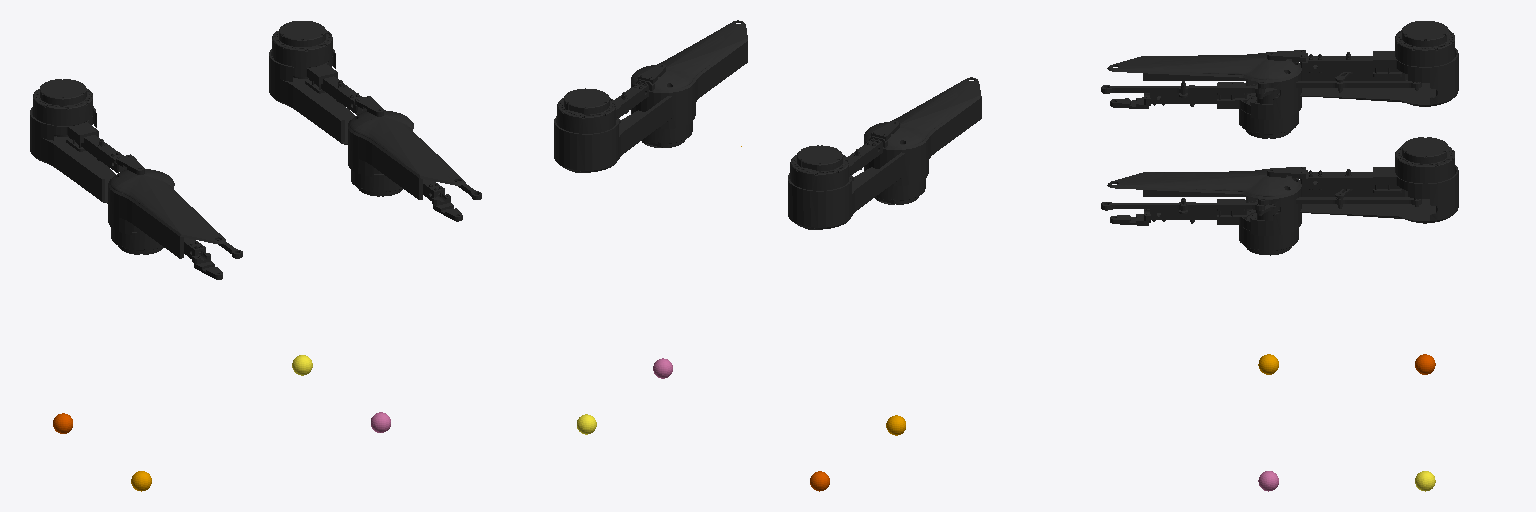
robot.urdf — laikago_description:
<?xml version="1.0" ?>
<robot name="laikago_description" xmlns:xacro="http://www.ros.org/wiki/xacro">
  <material name="black">
    <color rgba="0.0 0.0 0.0 1.0"/>
  </material>
  <material name="blue">
    <color rgba="0.0 0.0 0.8 1.0"/>
  </material>
  <material name="green">
    <color rgba="0.0 0.8 0.0 1.0"/>
  </material>
  <material name="grey">
    <color rgba="0.2 0.2 0.2 1.0"/>
  </material>
  <material name="silver">
    <color rgba="0.913725490196 0.913725490196 0.847058823529 1.0"/>
  </material>
  <material name="orange">
    <color rgba="1.0 0.423529411765 0.0392156862745 1.0"/>
  </material>
  <material name="brown">
    <color rgba="0.870588235294 0.811764705882 0.764705882353 1.0"/>
  </material>
  <material name="red">
    <color rgba="0.8 0.0 0.0 1.0"/>
  </material>
  <material name="white">
    <color rgba="1.0 1.0 1.0 1.0"/>
  </material>
  <link name="base">
    <visual>
      <origin rpy="0 0 0" xyz="0 0 0"/>
      <geometry>
        <box size="0.001 0.001 0.001"/>
      </geometry>
    </visual>
  </link>
  <joint name="floating_base" type="fixed">
    <origin rpy="0 0 0" xyz="0 0 0"/>
    <parent link="base"/>
    <child link="trunk"/>
  </joint>
  <link name="trunk">
    <visual>
      <origin rpy="0 0 0" xyz="0 0 0"/>
      <geometry>
        <mesh filename="../meshes/trunk.dae" scale="1 1 1"/>
      </geometry>
      <material name="grey"/>
    </visual>
    <collision>
      <origin rpy="0 0 0" xyz="0 0 0.01675"/>
      <geometry>
        <box size="0.5616 0.172 0.1875"/>
      </geometry>
    </collision>
    <inertial>
      <origin rpy="0 0 0" xyz="0.002284 -4.1e-05 0.025165"/>
      <mass value="13.733"/>
      <inertia ixx="0.073348887" ixy="0.00030338" ixz="0.001918218" iyy="0.250684593" iyz="-7.5402e-05" izz="0.254469458"/>
    </inertial>
  </link>
  <joint name="FR_hip_joint" type="revolute">
    <origin rpy="0 0 0" xyz="0.21935 -0.0875 0"/>
    <parent link="trunk"/>
    <child link="FR_hip"/>
    <axis xyz="1 0 0"/>
    <dynamics damping="0" friction="0"/>
    <limit effort="20" lower="-6.28" upper="6.28" velocity="52.4"/>
  </joint>
  <link name="FR_hip">
    <visual>
      <origin rpy="1.57079632679 0 0" xyz="0 0 0"/>
      <geometry>
        <mesh filename="../meshes/hip.dae" scale="1 1 1"/>
      </geometry>
      <material name="grey"/>
    </visual>
    <collision>
      <origin rpy="1.57079632679 0 0" xyz="0 0.021 0"/>
      <geometry>
        <cylinder length="0.08" radius="0.041"/>
      </geometry>
    </collision>
    <inertial>
      <origin rpy="0 0 0" xyz="-0.001568 0.008134 0.000864"/>
      <mass value="1.096"/>
      <inertia ixx="0.000822113" ixy="4.982e-06" ixz="-3.672e-05" iyy="0.000983196" iyz="-2.811e-06" izz="0.000864753"/>
    </inertial>
  </link>
  <joint name="FR_hip_fixed" type="fixed">
    <origin rpy="0 0 0" xyz="0 -0.059 0"/>
    <parent link="FR_hip"/>
    <child link="FR_thigh_shoulder"/>
  </joint>
  <!-- this link is only for collision -->
  <link name="FR_thigh_shoulder">
    <collision>
      <origin rpy="1.57079632679 0 0" xyz="0 0 0"/>
      <geometry>
        <cylinder length="0.08" radius="0.044"/>
      </geometry>
    </collision>
  </link>
  <joint name="FR_thigh_joint" type="revolute">
    <origin rpy="0 0 0" xyz="0 -0.037 0"/>
    <parent link="FR_hip"/>
    <child link="FR_thigh"/>
    <axis xyz="0 1 0"/>
    <dynamics damping="0" friction="0"/>
    <limit effort="55" lower="-6.28" upper="6.28" velocity="28.6"/>
  </joint>
  <link name="FR_thigh">
    <visual>
      <origin rpy="-1.57079632679 0 0" xyz="0 0 0"/>
      <geometry>
        <mesh filename="../meshes/thigh_mirror.dae" scale="1 1 1"/>
      </geometry>
      <material name="grey"/>
    </visual>
    <collision>
      <origin rpy="0 1.57079632679 0" xyz="0 0 -0.125"/>
      <geometry>
        <box size="0.25 0.034 0.043"/>
      </geometry>
    </collision>
    <inertial>
      <origin rpy="0 0 0" xyz="-0.000482 -0.02001 -0.031996"/>
      <mass value="1.528"/>
      <inertia ixx="0.00991611" ixy="-1.0388e-05" ixz="0.000250428" iyy="0.009280083" iyz="8.511e-05" izz="0.00178256"/>
    </inertial>
  </link>
  <joint name="FR_calf_joint" type="revolute">
    <origin rpy="0 0 0" xyz="0 0 -0.25"/>
    <parent link="FR_thigh"/>
    <child link="FR_calf"/>
    <axis xyz="0 1 0"/>
    <dynamics damping="0" friction="0"/>
    <limit effort="55" lower="-6.28" upper="6.28" velocity="28.6"/>
  </joint>
  <link name="FR_calf">
    <visual>
      <origin rpy="0 0 0" xyz="0 0 0"/>
      <geometry>
        <mesh filename="../meshes/calf.dae" scale="1 1 1"/>
      </geometry>
      <material name="silver"/>
    </visual>
    <collision>
      <origin rpy="0 1.57079632679 0" xyz="0 0 -0.125"/>
      <geometry>
        <box size="0.25 0.016 0.016"/>
      </geometry>
    </collision>
    <inertial>
      <origin rpy="0 0 0" xyz="-0.002196 -0.000381 -0.12338"/>
      <mass value="0.241"/>
      <inertia ixx="0.006181961" ixy="2.37e-07" ixz="-2.985e-06" iyy="0.006196546" iyz="5.138e-06" izz="3.4774e-05"/>
    </inertial>
  </link>
  <joint name="FR_foot_fixed" type="fixed" dont_collapse="true">
    <origin rpy="0 0 0" xyz="0 0 -0.25"/>
    <parent link="FR_calf"/>
    <child link="FR_foot"/>
  </joint>
  <link name="FR_foot">
    <visual>
      <origin rpy="0 0 0" xyz="0 0 0"/>
      <geometry>
        <sphere radius="0.0165"/>
      </geometry>
    </visual>
    <collision>
      <origin rpy="0 0 0" xyz="0 0 0"/>
      <geometry>
        <sphere radius="0.0265"/>
      </geometry>
    </collision>
    <inertial>
      <mass value="0.06"/>
      <inertia ixx="1.6854e-05" ixy="0.0" ixz="0.0" iyy="1.6854e-05" iyz="0.0" izz="1.6854e-05"/>
    </inertial>
  </link>

  <joint name="FL_hip_joint" type="revolute">
    <origin rpy="0 0 0" xyz="0.21935 0.0875 0"/>
    <parent link="trunk"/>
    <child link="FL_hip"/>
    <axis xyz="1 0 0"/>
    <dynamics damping="0" friction="0"/>
    <limit effort="20" lower="-6.28" upper="6.28" velocity="52.4"/>
  </joint>
  <link name="FL_hip">
    <visual>
      <origin rpy="-1.57079632679 0 0" xyz="0 0 0"/>
      <geometry>
        <mesh filename="../meshes/hip.dae" scale="1 1 1"/>
      </geometry>
      <material name="grey"/>
    </visual>
    <collision>
      <origin rpy="1.57079632679 0 0" xyz="0 -0.021 0"/>
      <geometry>
        <cylinder length="0.08" radius="0.041"/>
      </geometry>
    </collision>
    <inertial>
      <origin rpy="0 0 0" xyz="-0.001568 -0.008134 0.000864"/>
      <mass value="1.096"/>
      <inertia ixx="0.000822113" ixy="-4.982e-06" ixz="-3.672e-05" iyy="0.000983196" iyz="2.811e-06" izz="0.000864753"/>
    </inertial>
  </link>
  <joint name="FL_hip_fixed" type="fixed">
    <origin rpy="0 0 0" xyz="0 0.059 0"/>
    <parent link="FL_hip"/>
    <child link="FL_thigh_shoulder"/>
  </joint>
  <!-- this link is only for collision -->
  <link name="FL_thigh_shoulder">
    <collision>
      <origin rpy="1.57079632679 0 0" xyz="0 0 0"/>
      <geometry>
        <cylinder length="0.08" radius="0.044"/>
      </geometry>
    </collision>
  </link>
  <joint name="FL_thigh_joint" type="revolute">
    <origin rpy="0 0 0" xyz="0 0.037 0"/>
    <parent link="FL_hip"/>
    <child link="FL_thigh"/>
    <axis xyz="0 1 0"/>
    <dynamics damping="0" friction="0"/>
    <limit effort="55" lower="-6.28" upper="6.28" velocity="28.6"/>
  </joint>
  <link name="FL_thigh">
    <visual>
      <origin rpy="-1.57079632679 0 0" xyz="0 0 0"/>
      <geometry>
        <mesh filename="../meshes/thigh.dae" scale="1 1 1"/>
      </geometry>
      <material name="grey"/>
    </visual>
    <collision>
      <origin rpy="0 1.57079632679 0" xyz="0 0 -0.125"/>
      <geometry>
        <box size="0.25 0.034 0.043"/>
      </geometry>
    </collision>
    <inertial>
      <origin rpy="0 0 0" xyz="-0.000482 0.02001 -0.031996"/>
      <mass value="1.528"/>
      <inertia ixx="0.00991611" ixy="1.0388e-05" ixz="0.000250428" iyy="0.009280083" iyz="-8.511e-05" izz="0.00178256"/>
    </inertial>
  </link>
  <joint name="FL_calf_joint" type="revolute">
    <origin rpy="0 0 0" xyz="0 0 -0.25"/>
    <parent link="FL_thigh"/>
    <child link="FL_calf"/>
    <axis xyz="0 1 0"/>
    <dynamics damping="0" friction="0"/>
    <limit effort="55" lower="-6.28" upper="6.28" velocity="28.6"/>
  </joint>
  <link name="FL_calf">
    <visual>
      <origin rpy="0 0 0" xyz="0 0 0"/>
      <geometry>
        <mesh filename="../meshes/calf.dae" scale="1 1 1"/>
      </geometry>
      <material name="silver"/>
    </visual>
    <collision>
      <origin rpy="0 1.57079632679 0" xyz="0 0 -0.125"/>
      <geometry>
        <box size="0.25 0.016 0.016"/>
      </geometry>
    </collision>
    <inertial>
      <origin rpy="0 0 0" xyz="-0.002196 -0.000381 -0.12338"/>
      <mass value="0.241"/>
      <inertia ixx="0.006181961" ixy="2.37e-07" ixz="-2.985e-06" iyy="0.006196546" iyz="5.138e-06" izz="3.4774e-05"/>
    </inertial>
  </link>
  <joint name="FL_foot_fixed" type="fixed" dont_collapse="true">
    <origin rpy="0 0 0" xyz="0 0 -0.25"/>
    <parent link="FL_calf"/>
    <child link="FL_foot"/>
  </joint>
  <link name="FL_foot">
    <visual>
      <origin rpy="0 0 0" xyz="0 0 0"/>
      <geometry>
        <sphere radius="0.0165"/>
      </geometry>
    </visual>
    <collision>
      <origin rpy="0 0 0" xyz="0 0 0"/>
      <geometry>
        <sphere radius="0.0265"/>
      </geometry>
    </collision>
    <inertial>
      <mass value="0.06"/>
      <inertia ixx="1.6854e-05" ixy="0.0" ixz="0.0" iyy="1.6854e-05" iyz="0.0" izz="1.6854e-05"/>
    </inertial>
  </link>
  
  <joint name="RR_hip_joint" type="revolute">
    <origin rpy="0 0 0" xyz="-0.21935 -0.0875 0"/>
    <parent link="trunk"/>
    <child link="RR_hip"/>
    <axis xyz="1 0 0"/>
    <dynamics damping="0" friction="0"/>
    <limit effort="20" lower="-6.28" upper="6.28" velocity="52.4"/>
  </joint>
  <link name="RR_hip">
    <visual>
      <origin rpy="1.57079632679 3.14159265359 0" xyz="0 0 0"/>
      <geometry>
        <mesh filename="../meshes/hip.dae" scale="1 1 1"/>
      </geometry>
      <material name="grey"/>
    </visual>
    <collision>
      <origin rpy="1.57079632679 0 0" xyz="0 0.021 0"/>
      <geometry>
        <cylinder length="0.08" radius="0.041"/>
      </geometry>
    </collision>
    <inertial>
      <origin rpy="0 0 0" xyz="0.001568 0.008134 0.000864"/>
      <mass value="1.096"/>
      <inertia ixx="0.000822113" ixy="-4.982e-06" ixz="3.672e-05" iyy="0.000983196" iyz="-2.811e-06" izz="0.000864753"/>
    </inertial>
  </link>
  <joint name="RR_hip_fixed" type="fixed">
    <origin rpy="0 0 0" xyz="0 -0.059 0"/>
    <parent link="RR_hip"/>
    <child link="RR_thigh_shoulder"/>
  </joint>
  <!-- this link is only for collision -->
  <link name="RR_thigh_shoulder">
    <collision>
      <origin rpy="1.57079632679 0 0" xyz="0 0 0"/>
      <geometry>
        <cylinder length="0.08" radius="0.044"/>
      </geometry>
    </collision>
  </link>
  <joint name="RR_thigh_joint" type="revolute">
    <origin rpy="0 0 0" xyz="0 -0.037 0"/>
    <parent link="RR_hip"/>
    <child link="RR_thigh"/>
    <axis xyz="0 1 0"/>
    <dynamics damping="0" friction="0"/>
    <limit effort="55" lower="-6.28" upper="6.28" velocity="28.6"/>
  </joint>
  <link name="RR_thigh">
    <visual>
      <origin rpy="-1.57079632679 0 0" xyz="0 0 0"/>
      <geometry>
        <mesh filename="../meshes/thigh_mirror.dae" scale="1 1 1"/>
      </geometry>
      <material name="grey"/>
    </visual>
    <collision>
      <origin rpy="0 1.57079632679 0" xyz="0 0 -0.125"/>
      <geometry>
        <box size="0.25 0.034 0.043"/>
      </geometry>
    </collision>
    <inertial>
      <origin rpy="0 0 0" xyz="-0.000482 -0.02001 -0.031996"/>
      <mass value="1.528"/>
      <inertia ixx="0.00991611" ixy="-1.0388e-05" ixz="0.000250428" iyy="0.009280083" iyz="8.511e-05" izz="0.00178256"/>
    </inertial>
  </link>
  <joint name="RR_calf_joint" type="revolute">
    <origin rpy="0 0 0" xyz="0 0 -0.25"/>
    <parent link="RR_thigh"/>
    <child link="RR_calf"/>
    <axis xyz="0 1 0"/>
    <dynamics damping="0" friction="0"/>
    <limit effort="55" lower="-6.28" upper="6.28" velocity="28.6"/>
  </joint>
  <link name="RR_calf">
    <visual>
      <origin rpy="0 0 0" xyz="0 0 0"/>
      <geometry>
        <mesh filename="../meshes/calf.dae" scale="1 1 1"/>
      </geometry>
      <material name="silver"/>
    </visual>
    <collision>
      <origin rpy="0 1.57079632679 0" xyz="0 0 -0.125"/>
      <geometry>
        <box size="0.25 0.016 0.016"/>
      </geometry>
    </collision>
    <inertial>
      <origin rpy="0 0 0" xyz="-0.002196 -0.000381 -0.12338"/>
      <mass value="0.241"/>
      <inertia ixx="0.006181961" ixy="2.37e-07" ixz="-2.985e-06" iyy="0.006196546" iyz="5.138e-06" izz="3.4774e-05"/>
    </inertial>
  </link>
  <joint name="RR_foot_fixed" type="fixed" dont_collapse="true">
    <origin rpy="0 0 0" xyz="0 0 -0.25"/>
    <parent link="RR_calf"/>
    <child link="RR_foot"/>
  </joint>
  <link name="RR_foot">
    <visual>
      <origin rpy="0 0 0" xyz="0 0 0"/>
      <geometry>
        <sphere radius="0.0165"/>
      </geometry>
    </visual>
    <collision>
      <origin rpy="0 0 0" xyz="0 0 0"/>
      <geometry>
        <sphere radius="0.0265"/>
      </geometry>
    </collision>
    <inertial>
      <mass value="0.06"/>
      <inertia ixx="1.6854e-05" ixy="0.0" ixz="0.0" iyy="1.6854e-05" iyz="0.0" izz="1.6854e-05"/>
    </inertial>
  </link>
  
  <joint name="RL_hip_joint" type="revolute">
    <origin rpy="0 0 0" xyz="-0.21935 0.0875 0"/>
    <parent link="trunk"/>
    <child link="RL_hip"/>
    <axis xyz="1 0 0"/>
    <dynamics damping="0" friction="0"/>
    <limit effort="20" lower="-6.28" upper="6.28" velocity="52.4"/>
  </joint>
  <link name="RL_hip">
    <visual>
      <origin rpy="-1.57079632679 3.14159265359 0" xyz="0 0 0"/>
      <geometry>
        <mesh filename="../meshes/hip.dae" scale="1 1 1"/>
      </geometry>
      <material name="grey"/>
    </visual>
    <collision>
      <origin rpy="1.57079632679 0 0" xyz="0 -0.021 0"/>
      <geometry>
        <cylinder length="0.08" radius="0.041"/>
      </geometry>
    </collision>
    <inertial>
      <origin rpy="0 0 0" xyz="0.001568 -0.008134 0.000864"/>
      <mass value="1.096"/>
      <inertia ixx="0.000822113" ixy="4.982e-06" ixz="3.672e-05" iyy="0.000983196" iyz="2.811e-06" izz="0.000864753"/>
    </inertial>
  </link>
  <joint name="RL_hip_fixed" type="fixed">
    <origin rpy="0 0 0" xyz="0 0.059 0"/>
    <parent link="RL_hip"/>
    <child link="RL_thigh_shoulder"/>
  </joint>
  <!-- this link is only for collision -->
  <link name="RL_thigh_shoulder">
    <collision>
      <origin rpy="1.57079632679 0 0" xyz="0 0 0"/>
      <geometry>
        <cylinder length="0.08" radius="0.044"/>
      </geometry>
    </collision>
  </link>
  <joint name="RL_thigh_joint" type="revolute">
    <origin rpy="0 0 0" xyz="0 0.037 0"/>
    <parent link="RL_hip"/>
    <child link="RL_thigh"/>
    <axis xyz="0 1 0"/>
    <dynamics damping="0" friction="0"/>
    <limit effort="55" lower="-6.28" upper="6.28" velocity="28.6"/>
  </joint>
  <link name="RL_thigh">
    <visual>
      <origin rpy="-1.57079632679 0 0" xyz="0 0 0"/>
      <geometry>
        <mesh filename="../meshes/thigh.dae" scale="1 1 1"/>
      </geometry>
      <material name="grey"/>
    </visual>
    <collision>
      <origin rpy="0 1.57079632679 0" xyz="0 0 -0.125"/>
      <geometry>
        <box size="0.25 0.034 0.043"/>
      </geometry>
    </collision>
    <inertial>
      <origin rpy="0 0 0" xyz="-0.000482 0.02001 -0.031996"/>
      <mass value="1.528"/>
      <inertia ixx="0.00991611" ixy="1.0388e-05" ixz="0.000250428" iyy="0.009280083" iyz="-8.511e-05" izz="0.00178256"/>
    </inertial>
  </link>
  <joint name="RL_calf_joint" type="revolute">
    <origin rpy="0 0 0" xyz="0 0 -0.25"/>
    <parent link="RL_thigh"/>
    <child link="RL_calf"/>
    <axis xyz="0 1 0"/>
    <dynamics damping="0" friction="0"/>
    <limit effort="55" lower="-6.28" upper="6.28" velocity="28.6"/>
  </joint>
  <link name="RL_calf">
    <visual>
      <origin rpy="0 0 0" xyz="0 0 0"/>
      <geometry>
        <mesh filename="../meshes/calf.dae" scale="1 1 1"/>
      </geometry>
    </visual>
    <collision>
      <origin rpy="0 1.57079632679 0" xyz="0 0 -0.125"/>
      <geometry>
        <box size="0.25 0.016 0.016"/>
      </geometry>
    </collision>
    <inertial>
      <origin rpy="0 0 0" xyz="-0.002196 -0.000381 -0.12338"/>
      <mass value="0.241"/>
      <inertia ixx="0.006181961" ixy="2.37e-07" ixz="-2.985e-06" iyy="0.006196546" iyz="5.138e-06" izz="3.4774e-05"/>
    </inertial>
  </link>
  <joint name="RL_foot_fixed" type="fixed" dont_collapse="true">
    <origin rpy="0 0 0" xyz="0 0 -0.25"/>
    <parent link="RL_calf"/>
    <child link="RL_foot"/>
  </joint>
  <link name="RL_foot">
    <visual>
      <origin rpy="0 0 0" xyz="0 0 0"/>
      <geometry>
        <sphere radius="0.0165"/>
      </geometry>
    </visual>
    <collision>
      <origin rpy="0 0 0" xyz="0 0 0"/>
      <geometry>
        <sphere radius="0.0265"/>
      </geometry>
    </collision>
    <inertial>
      <mass value="0.06"/>
      <inertia ixx="1.6854e-05" ixy="0.0" ixz="0.0" iyy="1.6854e-05" iyz="0.0" izz="1.6854e-05"/>
    </inertial>
  </link>
</robot>

--- Render facts (derived) ---
The picture shows the robot from 3 angles, left to right: view 1: azimuth 30°, elevation 25°; view 2: azimuth 150°, elevation 25°; view 3: azimuth 270°, elevation 25°; orthographic projection.
Model laikago_description with 22 links and 21 joints (12 revolute, 9 fixed), rooted at base, posed every joint at zero.
Visible links, largest first — view 1: RR_thigh, FR_thigh, FL_thigh, RL_thigh; view 2: FL_thigh, RL_thigh, RR_thigh, FR_thigh; view 3: RR_thigh, FR_thigh, FL_thigh, RL_thigh.
Boxes of the visible links, x1,y1,x2,y2 form: RR_thigh: (108, 169, 242, 279); FR_thigh: (348, 110, 481, 221); FL_thigh: (269, 21, 383, 144); RL_thigh: (30, 79, 144, 203); FL_thigh: (554, 64, 671, 172); RL_thigh: (788, 121, 904, 229); RR_thigh: (864, 77, 981, 204); FR_thigh: (631, 20, 747, 147); RR_thigh: (1101, 52, 1301, 138); FR_thigh: (1101, 169, 1301, 255); FL_thigh: (1258, 137, 1458, 223); RL_thigh: (1258, 21, 1458, 106).
Bounding box of the posed robot: 0.5444 × 0.5683 × 0.6035 m (x, y, z).
Meshes: 5 distinct files referenced, 4 mesh visuals loaded (2 Collada DAE); not drawn: 9 (reference not matched to a file when rendering).